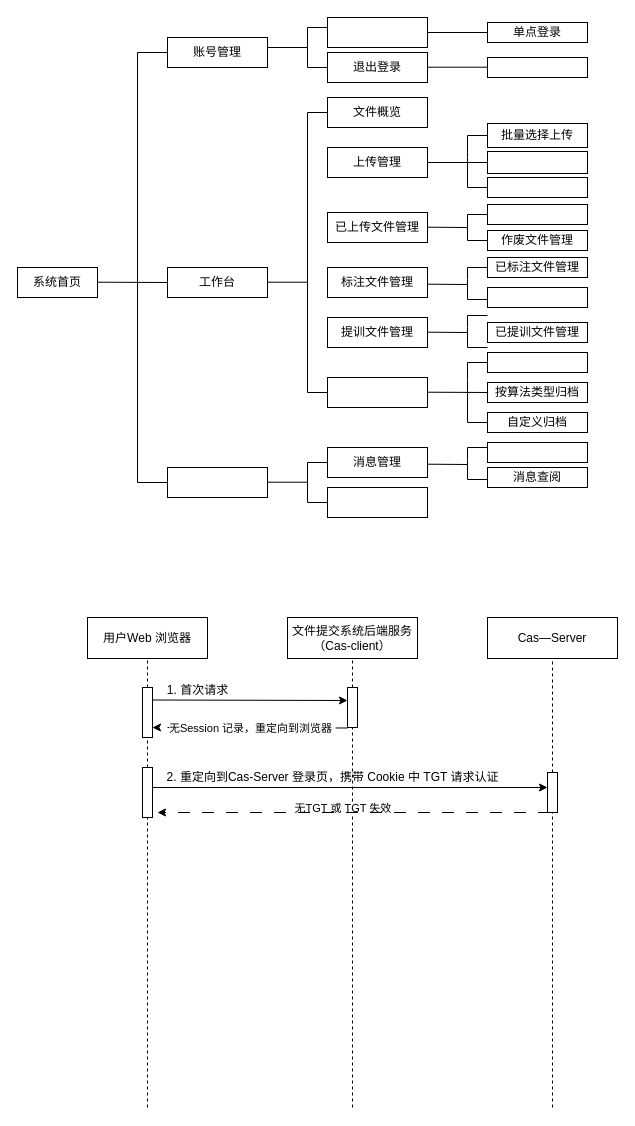
The diagram is 635 pixels wide and 1126 high, and some of its shapes have lost their labels. Here are the shapes that lost their labels. From the top down, the centre of each, then its label:
the point at 377,32: 账号登录
the point at 537,67: 单点登出
the point at 537,162: 拖拽上传
the point at 537,187: 断点续传
the point at 537,214: 文件管理
the point at 537,297: 标记无效文件管理
the point at 537,362: 按批次归档
the point at 377,392: 归档管理
the point at 537,452: 消息分类管理
the point at 217,482: 消息中心
the point at 377,502: 消息通知管理
